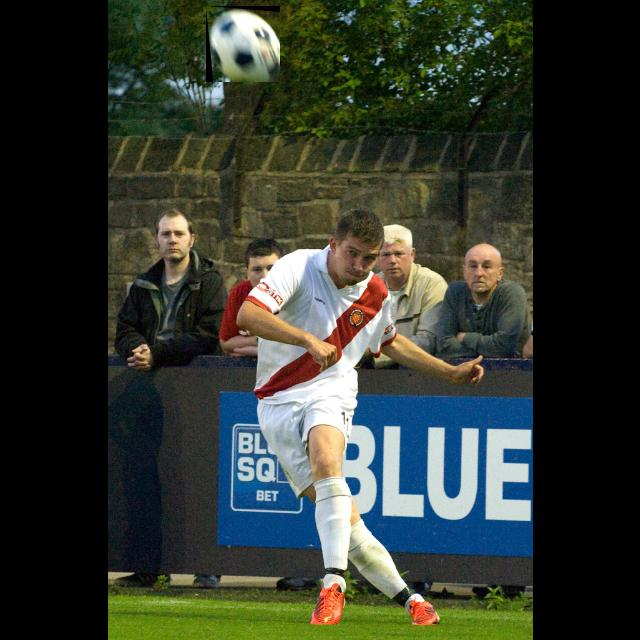Football: (206, 6, 280, 82)
